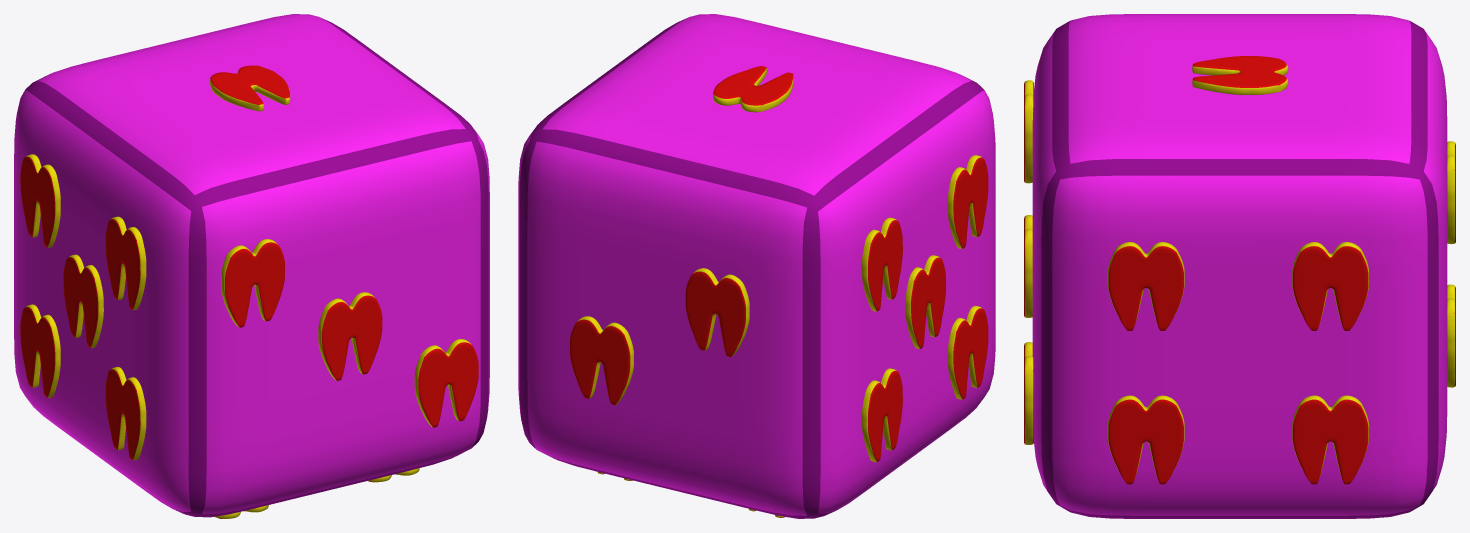
The model's file is 071_BPD DIEFIX.fbx.
3 views of the same model, side by side, from view 1: azimuth 30°, elevation 25°; view 2: azimuth 150°, elevation 25°; view 3: azimuth 270°, elevation 25° (orthographic). The views are drawn at different scales.
Parts seen in each view (by area): view 1: Cube, Cube.001; view 2: Cube, Cube.001; view 3: Cube, Cube.001.
Boxes of the visible parts, x1,y1,x2,y2 form: Cube: [14, 14, 489, 517]; Cube.001: [20, 65, 478, 518]; Cube: [518, 14, 995, 518]; Cube.001: [570, 66, 988, 517]; Cube: [1032, 14, 1447, 518]; Cube.001: [1024, 56, 1455, 484].
Bounding box in the file's own units: 474 × 475 × 475.
